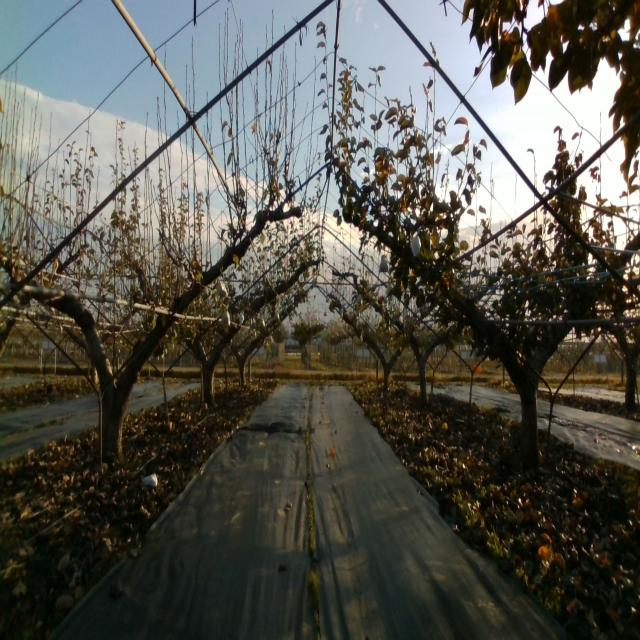pearbags: (410, 230, 422, 258)
